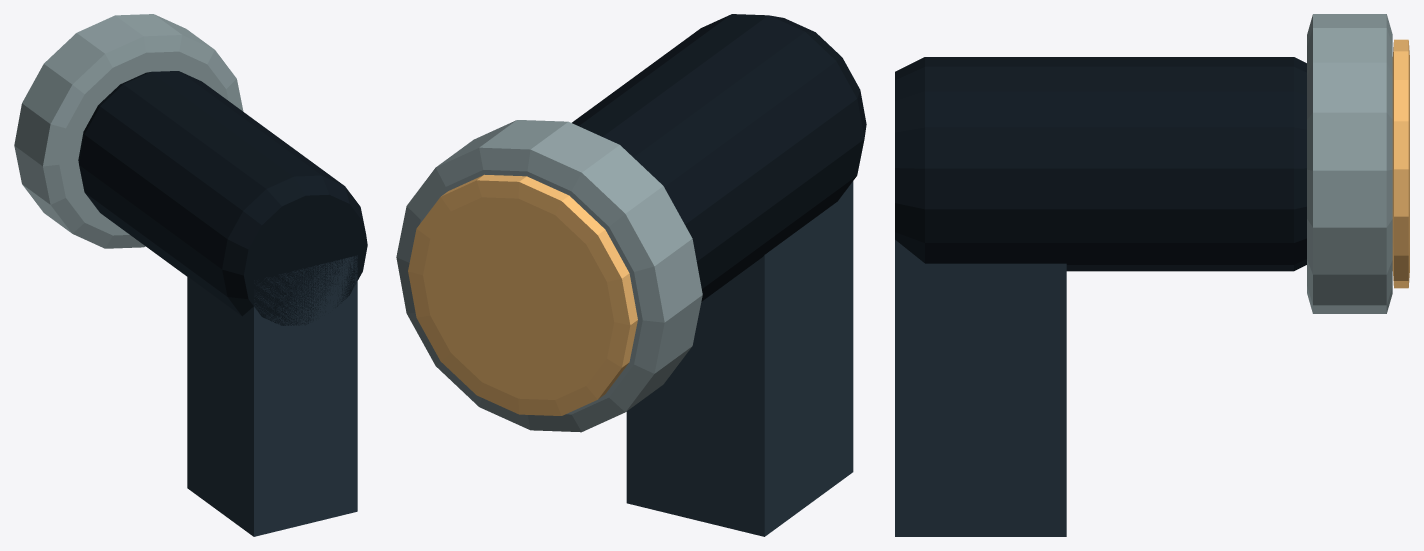
The model's file is horror_flashlight.obj.
3 renders of one model, left to right at view 1: azimuth 30°, elevation 25°; view 2: azimuth 150°, elevation 25°; view 3: azimuth 270°, elevation 25°, orthographic. The views are drawn at different scales.
Visible parts, largest first — view 1: Barrel, Grip, Rim; view 2: Grip, Barrel, Lens, Rim; view 3: Barrel, Grip, Rim, Lens.
Part boxes in pixels (x1=…): Barrel: x1=78, y1=71, x2=367, y2=325; Grip: x1=187, y1=255, x2=357, y2=536; Rim: x1=14, y1=14, x2=243, y2=248; Grip: x1=626, y1=181, x2=853, y2=536; Barrel: x1=572, y1=14, x2=866, y2=301; Lens: x1=408, y1=174, x2=637, y2=415; Rim: x1=396, y1=120, x2=702, y2=432; Barrel: x1=895, y1=57, x2=1306, y2=271; Grip: x1=895, y1=240, x2=1066, y2=536; Rim: x1=1307, y1=14, x2=1392, y2=313; Lens: x1=1392, y1=39, x2=1409, y2=288.
Size of the model in its own units: 0.7 by 1.23 by 1.2.
